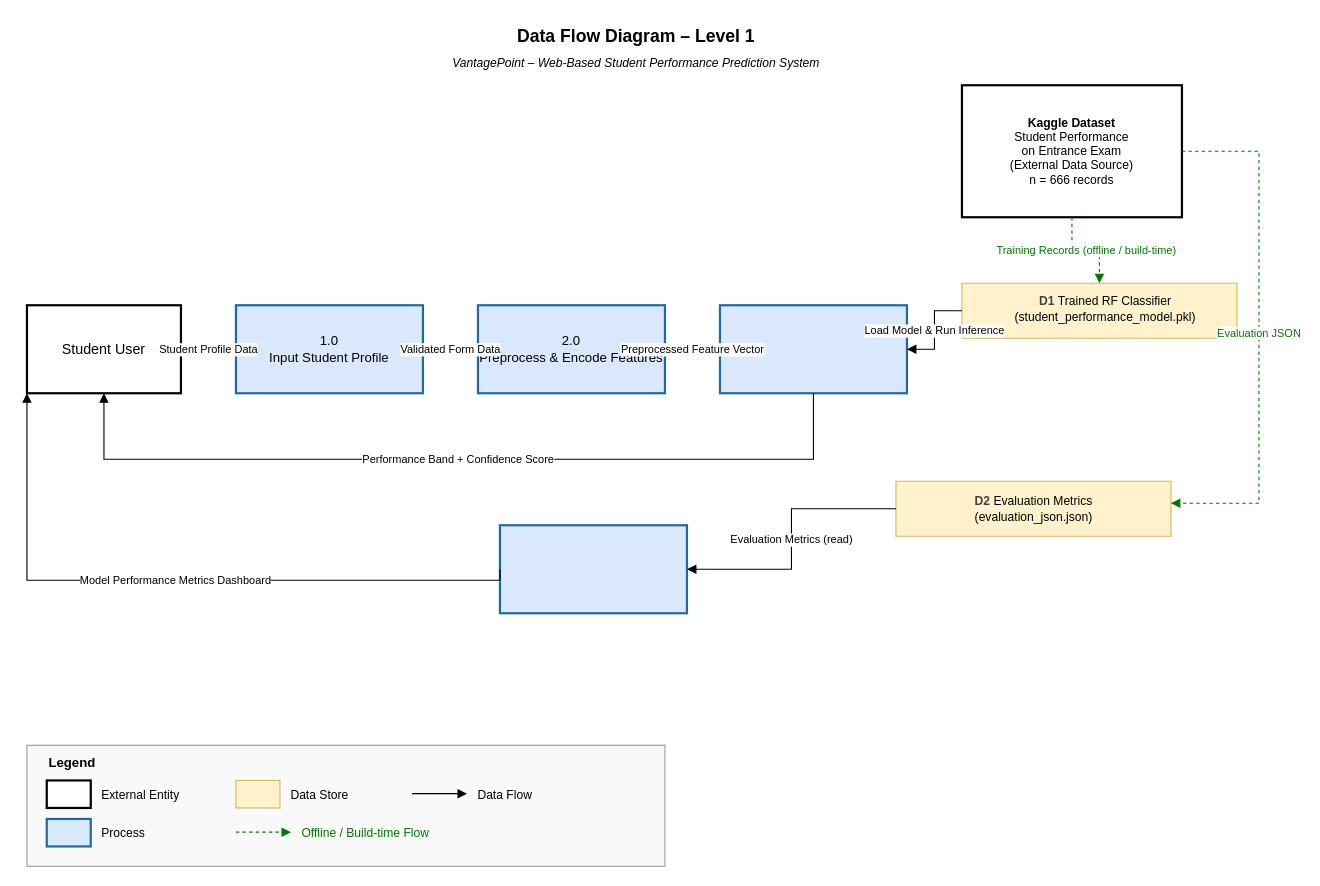
This 1320x886 diagram has some shape labels left out. Here are the shapes that lost their labels. From the top down, the box of each, then its label:
(718, 304, 908, 394): 3.0 Classify Performance Band
(498, 524, 688, 614): 4.0 Serve Evaluation Dashboard
